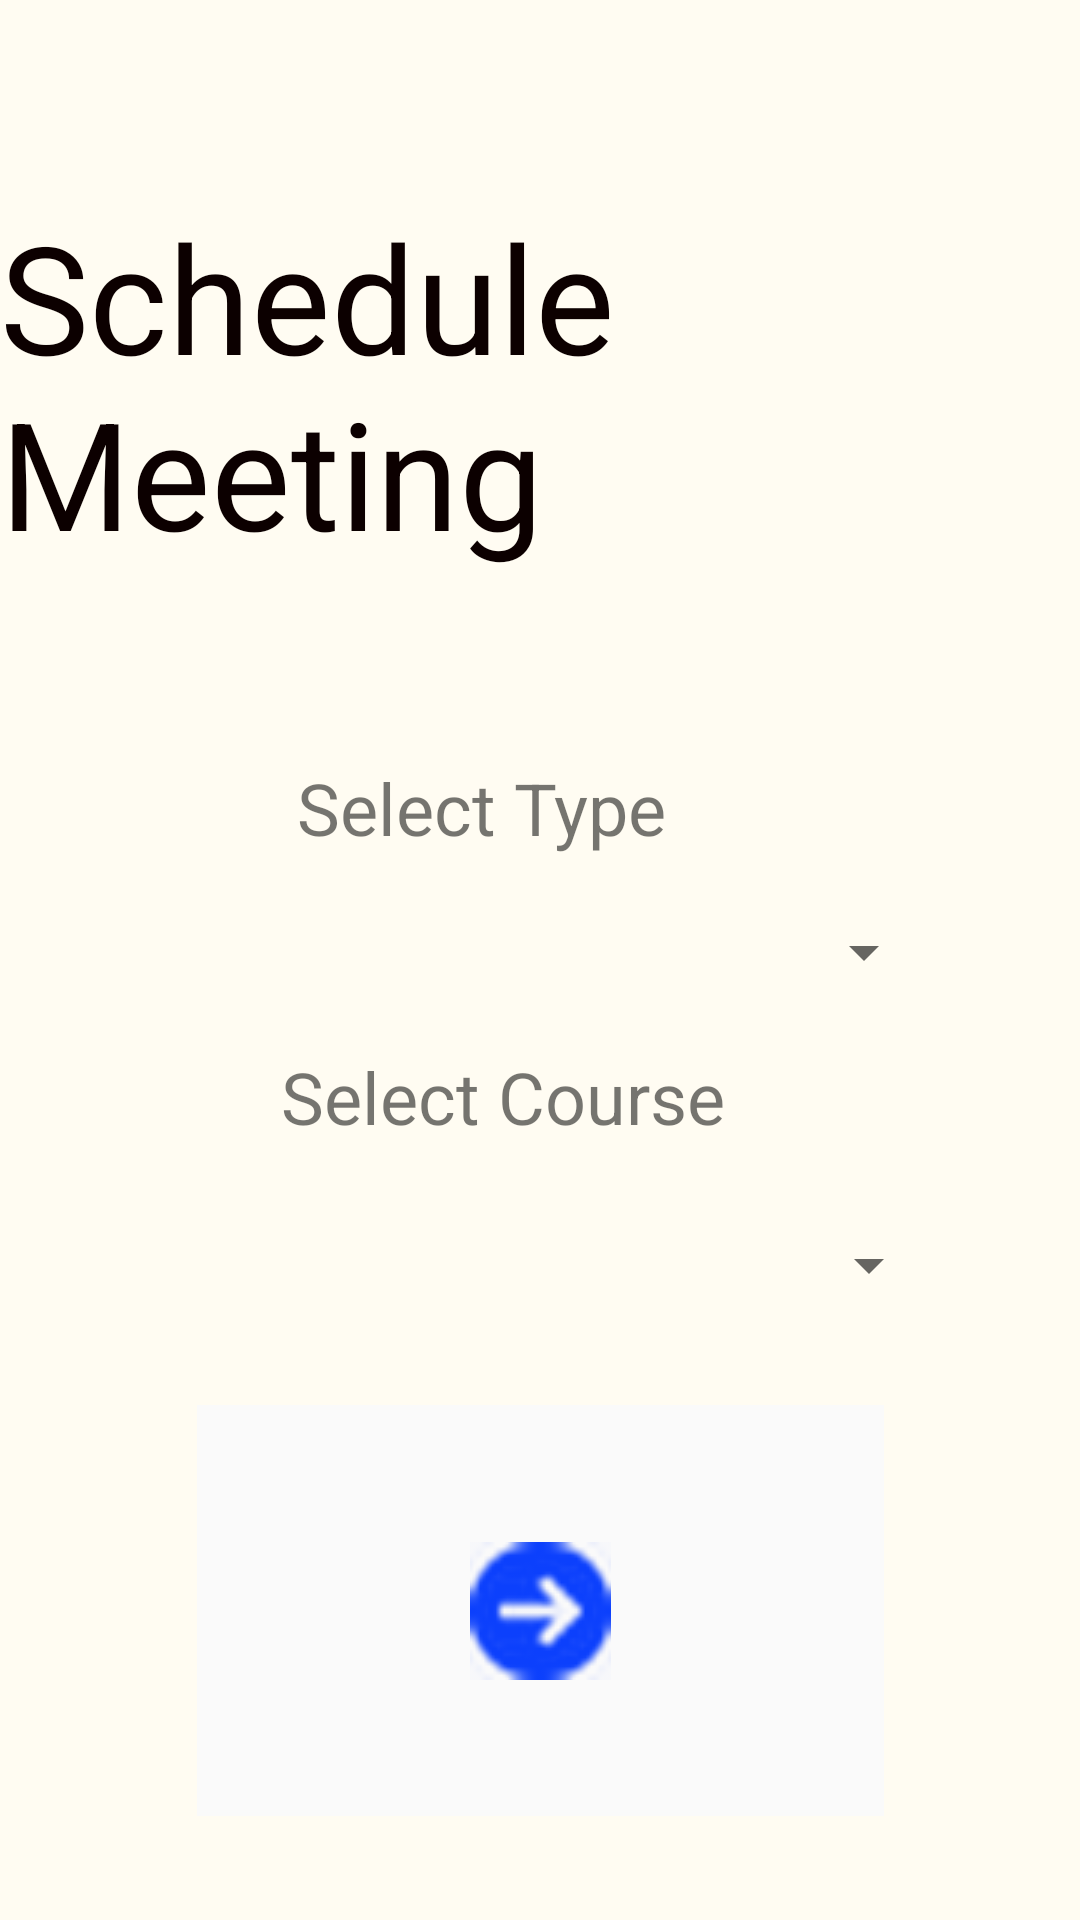

Screen size 1080*1920. Icon name, then its box in pixels as (x1, y1, x2, y2):
next: (470, 1542, 611, 1680)
